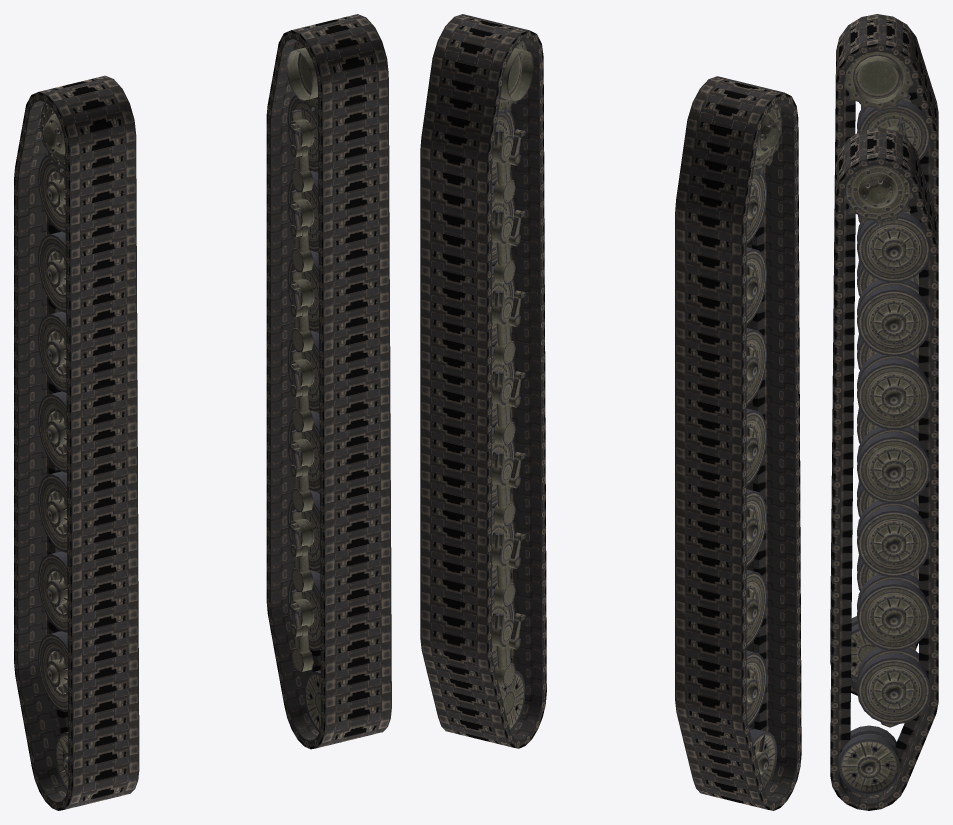
Rendered from Chassis.glb.
3 views of the same model, side by side, from view 1: azimuth 30°, elevation 25°; view 2: azimuth 150°, elevation 25°; view 3: azimuth 270°, elevation 25° (orthographic). The views are drawn at different scales.
Visible parts, largest first — view 1: set_1_group_0, set_3_group_0, set_5_group_0, set_4_group_0, set_0_group_0, set_2_group_0; view 2: set_1_group_0, set_3_group_0, set_5_group_0, set_4_group_0, set_0_group_0, set_2_group_0; view 3: set_5_group_0, set_3_group_0, set_4_group_0, set_1_group_0, set_2_group_0.
Part boxes in pixels (left/top/right/bottom): set_1_group_0: left=14, top=75, right=139, bottom=810; set_3_group_0: left=266, top=14, right=391, bottom=749; set_5_group_0: left=286, top=40, right=320, bottom=731; set_4_group_0: left=38, top=102, right=68, bottom=790; set_0_group_0: left=67, top=544, right=138, bottom=603; set_2_group_0: left=320, top=482, right=390, bottom=542; set_1_group_0: left=675, top=76, right=801, bottom=810; set_3_group_0: left=420, top=14, right=546, bottom=748; set_5_group_0: left=492, top=41, right=534, bottom=730; set_4_group_0: left=746, top=103, right=781, bottom=790; set_0_group_0: left=750, top=525, right=800, bottom=575; set_2_group_0: left=510, top=465, right=545, bottom=513; set_5_group_0: left=838, top=165, right=930, bottom=794; set_3_group_0: left=830, top=127, right=938, bottom=810; set_4_group_0: left=844, top=51, right=929, bottom=679; set_1_group_0: left=830, top=14, right=938, bottom=695; set_2_group_0: left=832, top=555, right=852, bottom=609.
Bounding box in the file's own units: 3.43 × 7.28 × 1.09.
6 materials, 6 textured.
